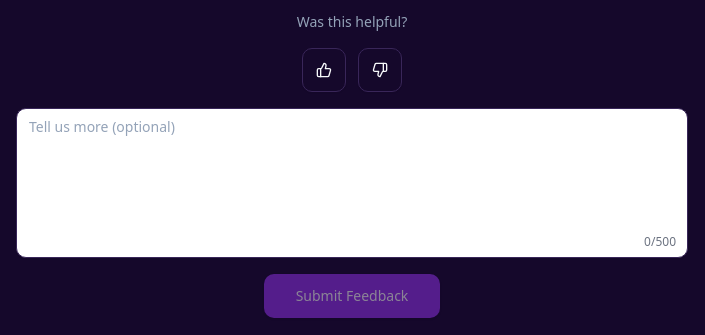
Test: FeedbackButtons › should disable buttons and textarea during loading state
Step 1. Click the button named "Thumbs up - This interpretation was helpful" → (324, 70), box [302,48,346,92]
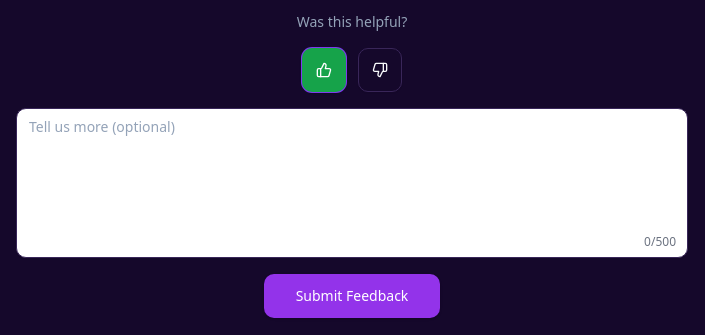
Step 2. Click the button "Submit Feedback" → (352, 296), box [264,274,440,318]
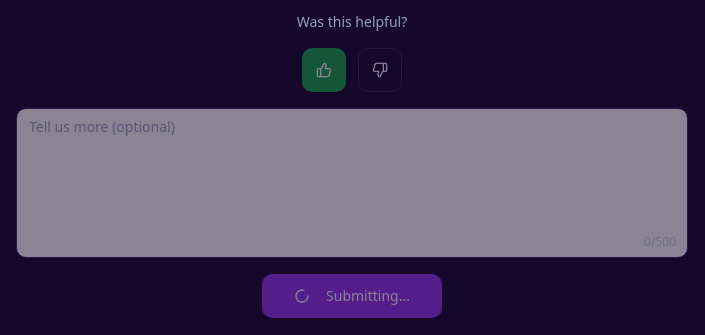
Expected: the text box with placeholder "Tell us more (optional)" is disabled, [16,108,688,258]
Expected: the button "Submitting..." is shown, [262,274,442,318]
